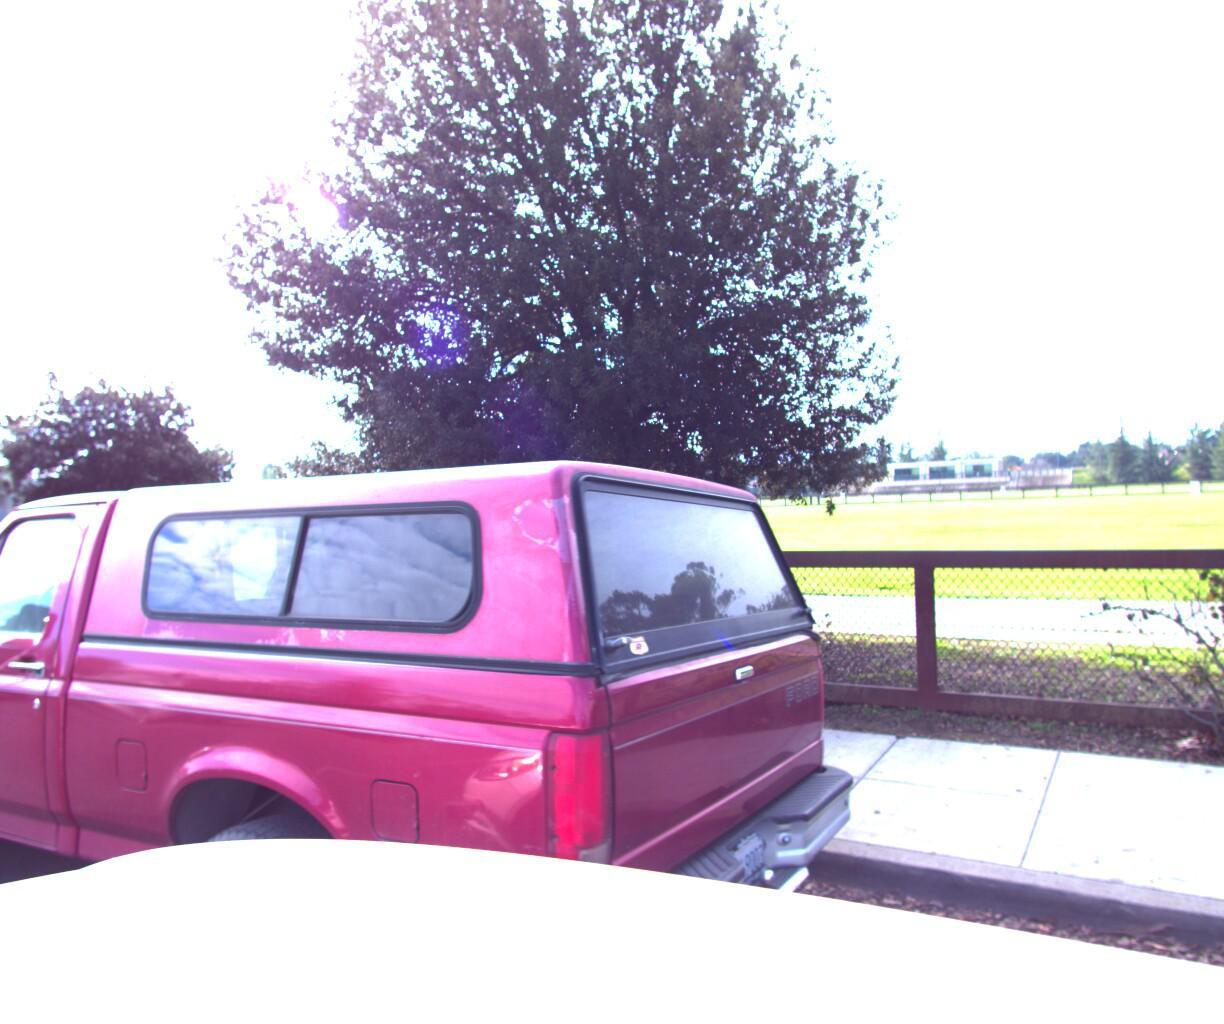car: (0, 456, 875, 1024), (0, 557, 32, 819)
